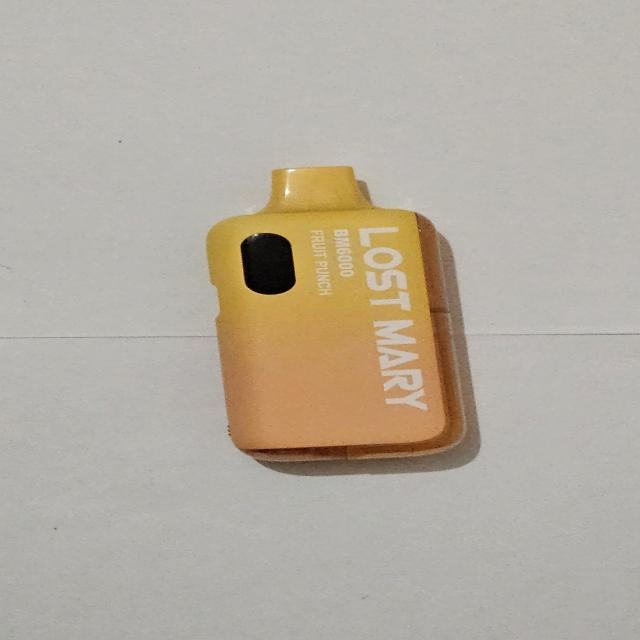Hazard: (204, 165, 473, 464)
